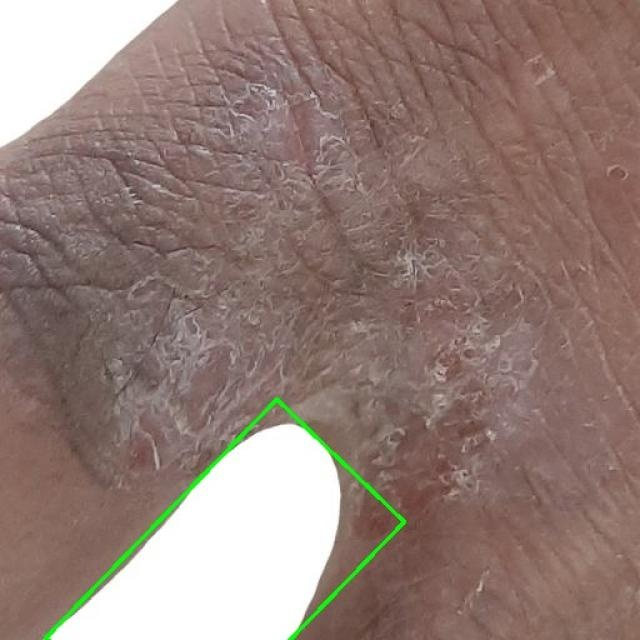Eczema: (45, 399, 404, 640)
